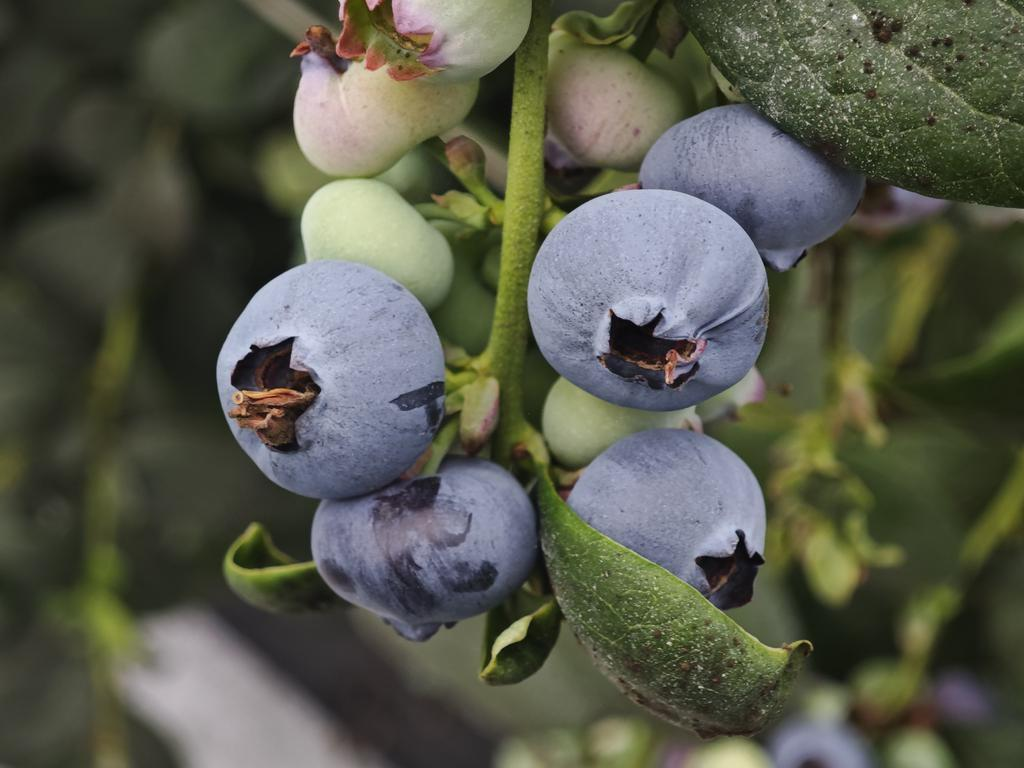RipeBlueBerry: (208, 255, 452, 506), (523, 185, 772, 416), (305, 458, 541, 649)
